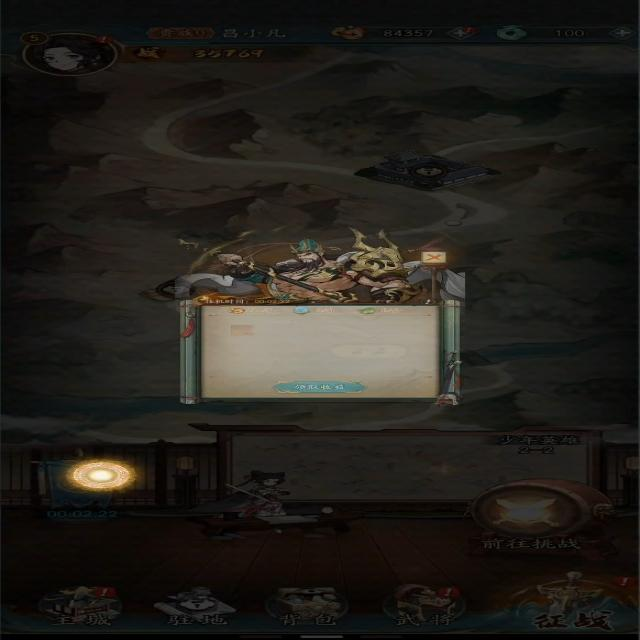operation-close: (408, 246, 457, 265)
